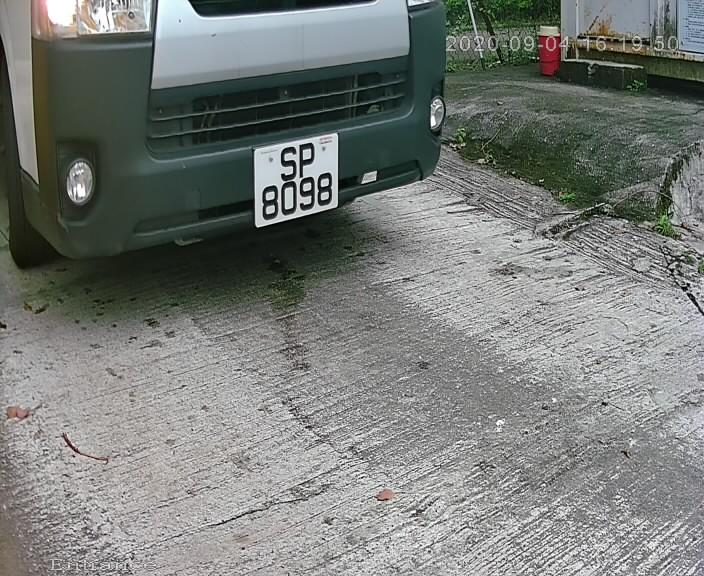Car: (19, 1, 494, 314)
License Plate: (242, 132, 346, 232)
